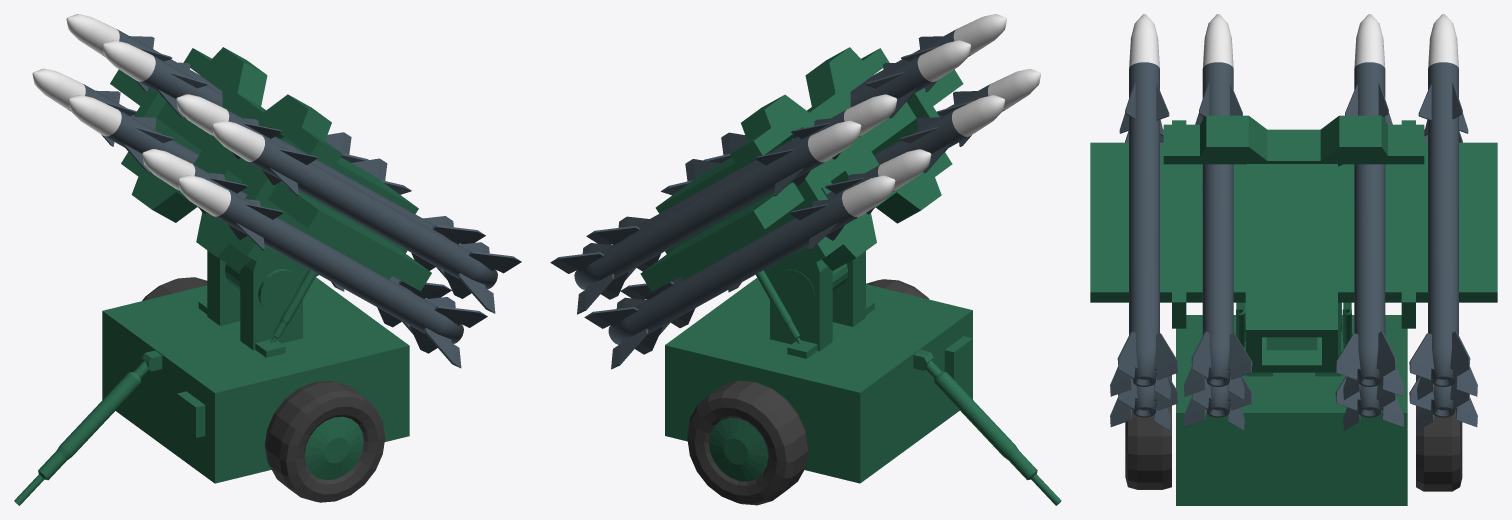
The model's file is missile_battery.glb.
3 views of the same model, side by side, from view 1: azimuth 30°, elevation 25°; view 2: azimuth 150°, elevation 25°; view 3: azimuth 270°, elevation 25° (orthographic). The views are drawn at different scales.
Visible parts, largest first — view 1: missile_battery; view 2: missile_battery; view 3: missile_battery.
Part boxes in pixels (bbox=[...]): missile_battery: bbox=[14, 14, 521, 505]; missile_battery: bbox=[550, 14, 1061, 505]; missile_battery: bbox=[1090, 14, 1497, 505].
Size of the model in its own units: 386 by 352 by 313.
